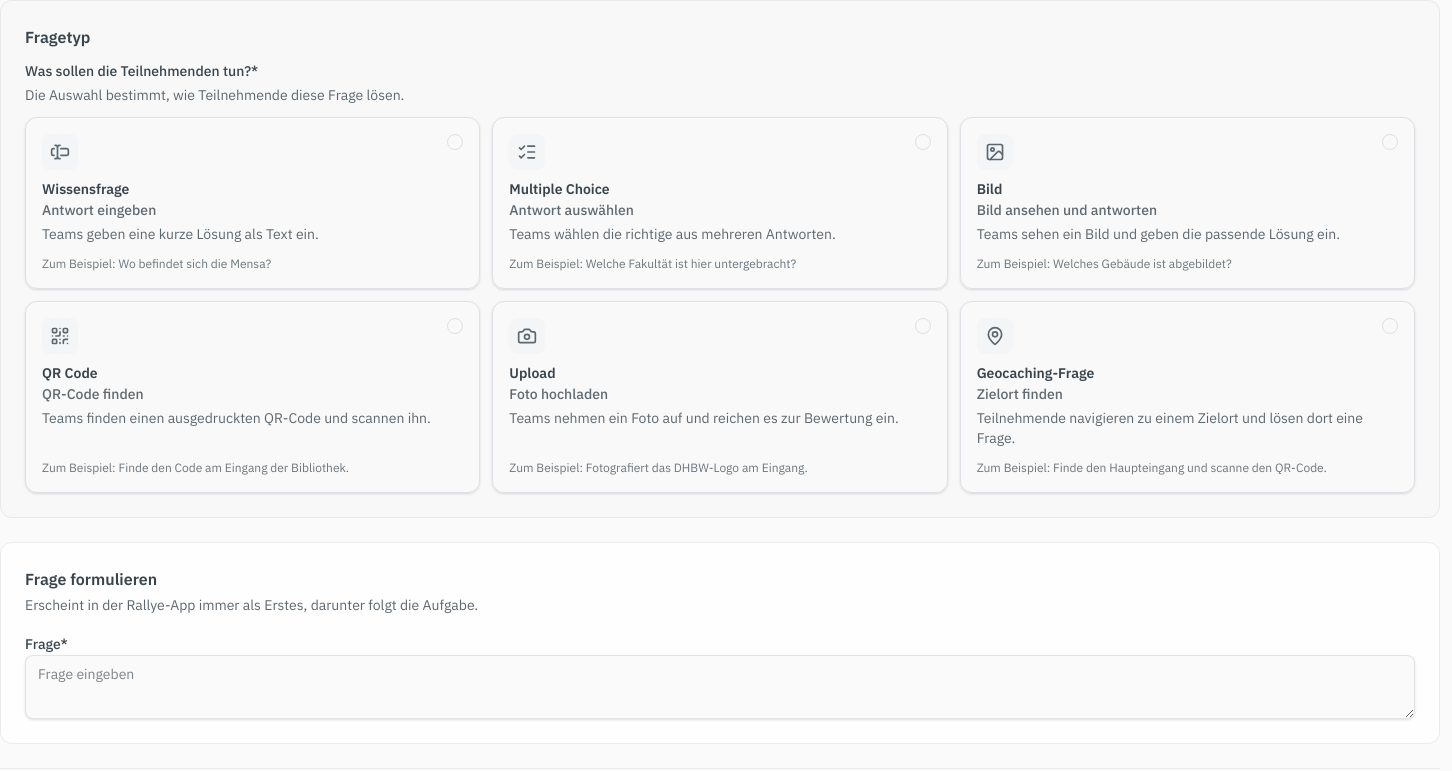
QuestionForm › shows the matching fields after selecting a task
Step 1. Click the 1st radio button named "Antwort eingeben" → (455, 142), box [447,134,463,150]
(page scrolled)
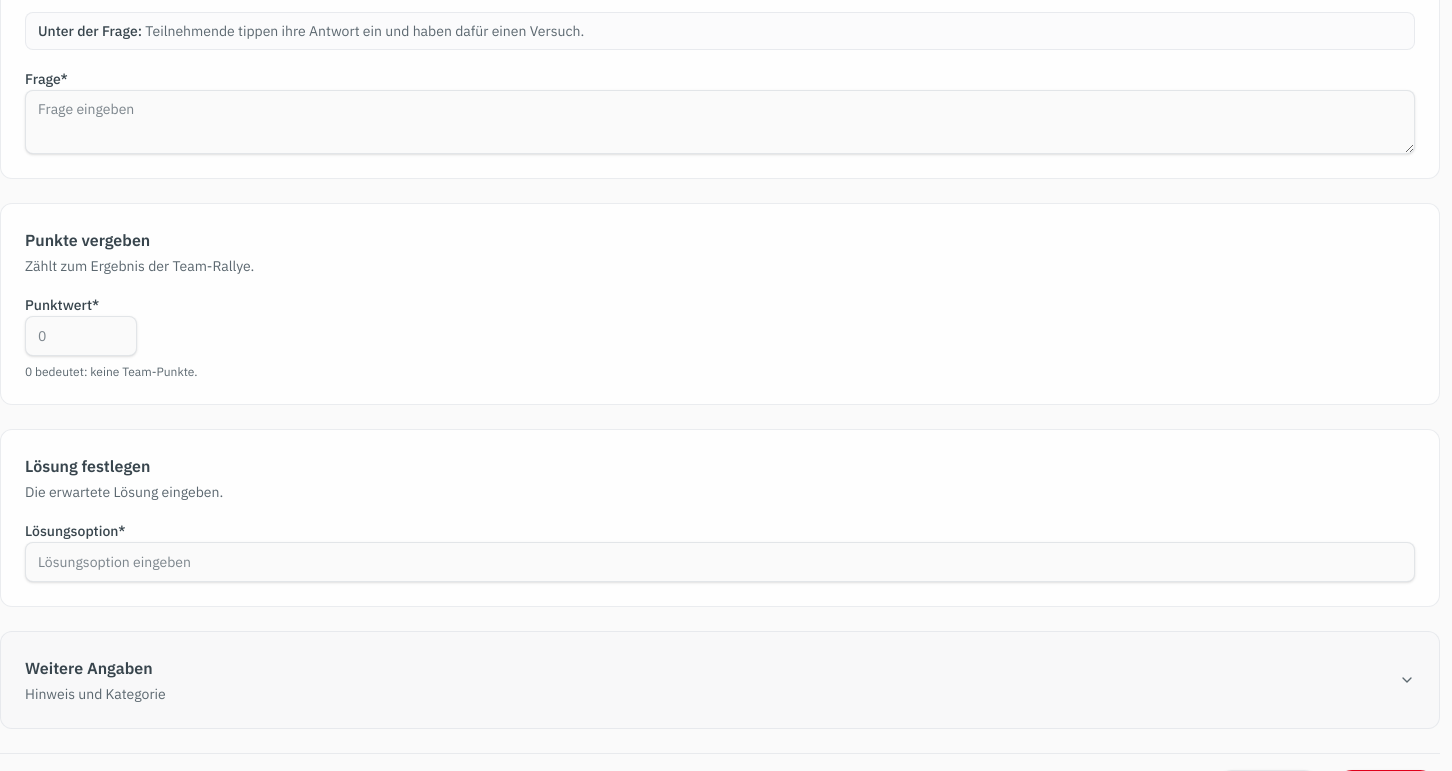
Expected: the number field labelled "Punktwert*" is shown, [25,316,137,356]
Expected: the text "Lösungsoption*" is shown, [25,522,125,540]
